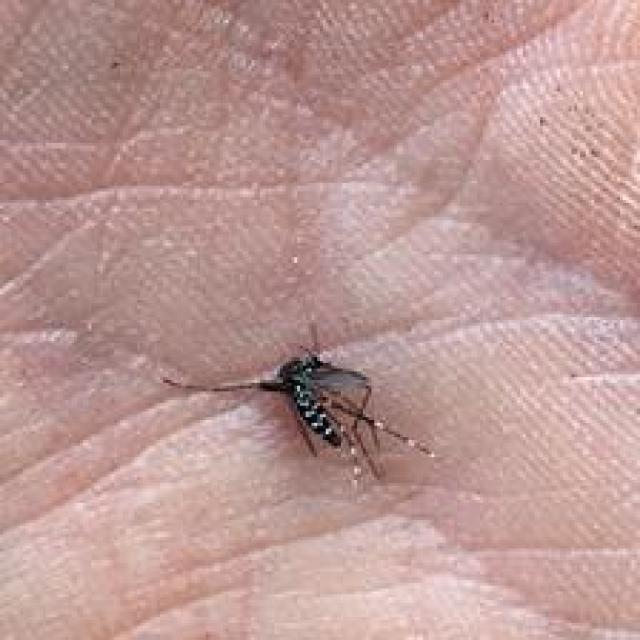Aedes albopictus: (161, 323, 436, 483)
